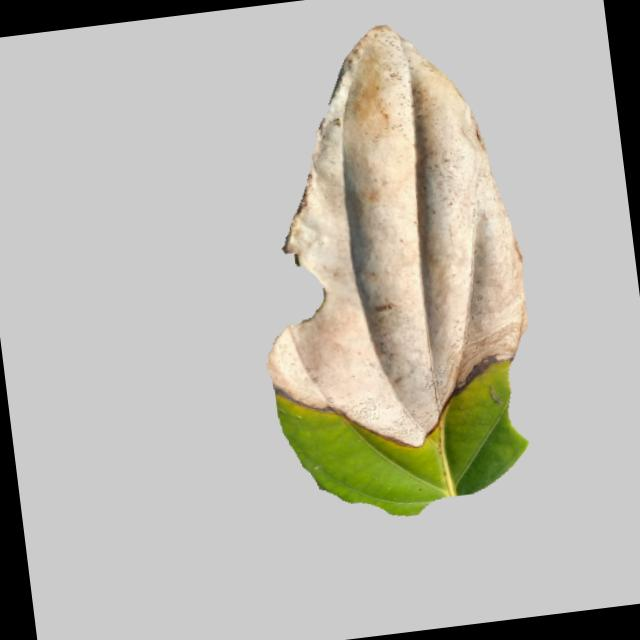leaf-blight: (210, 2, 570, 516)
